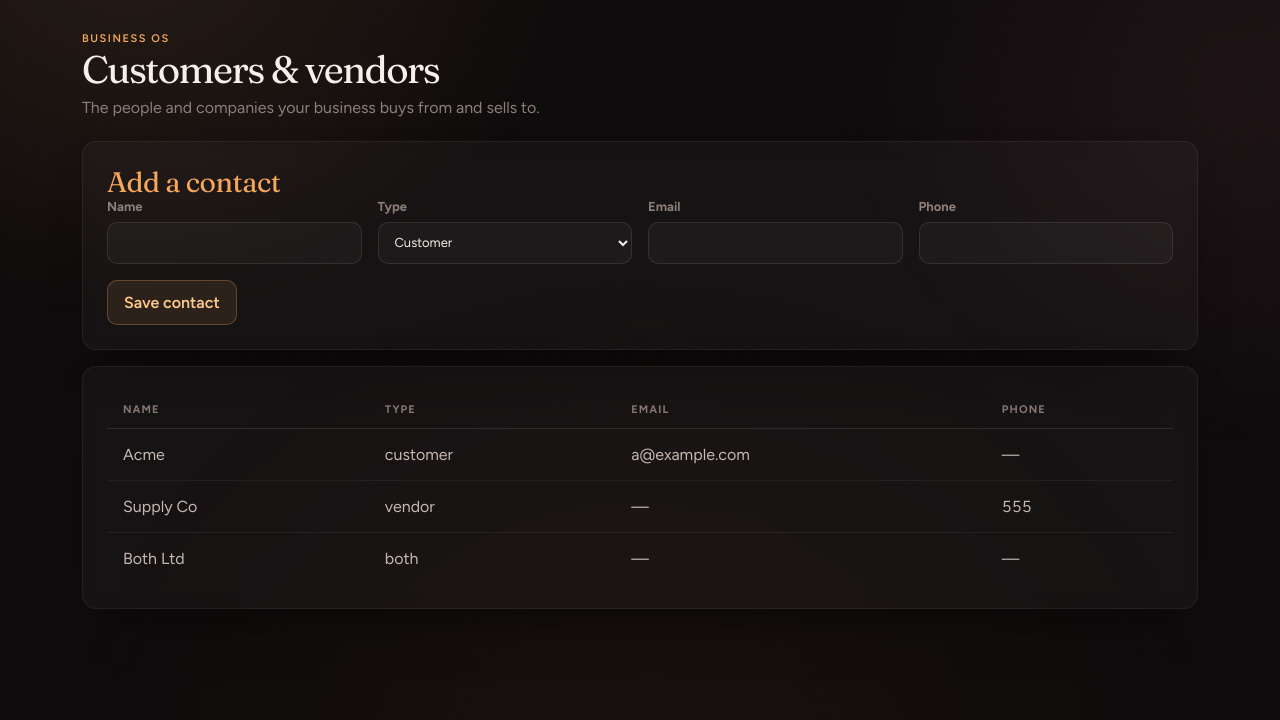
customers and vendors › saves a new contact and says so
The image size is (1280, 720).
Expected: the text "Acme" is shown, [107,428,369,480]
Type "New Co" into the field labelled "Name" at (234, 243), box [107,222,362,264]
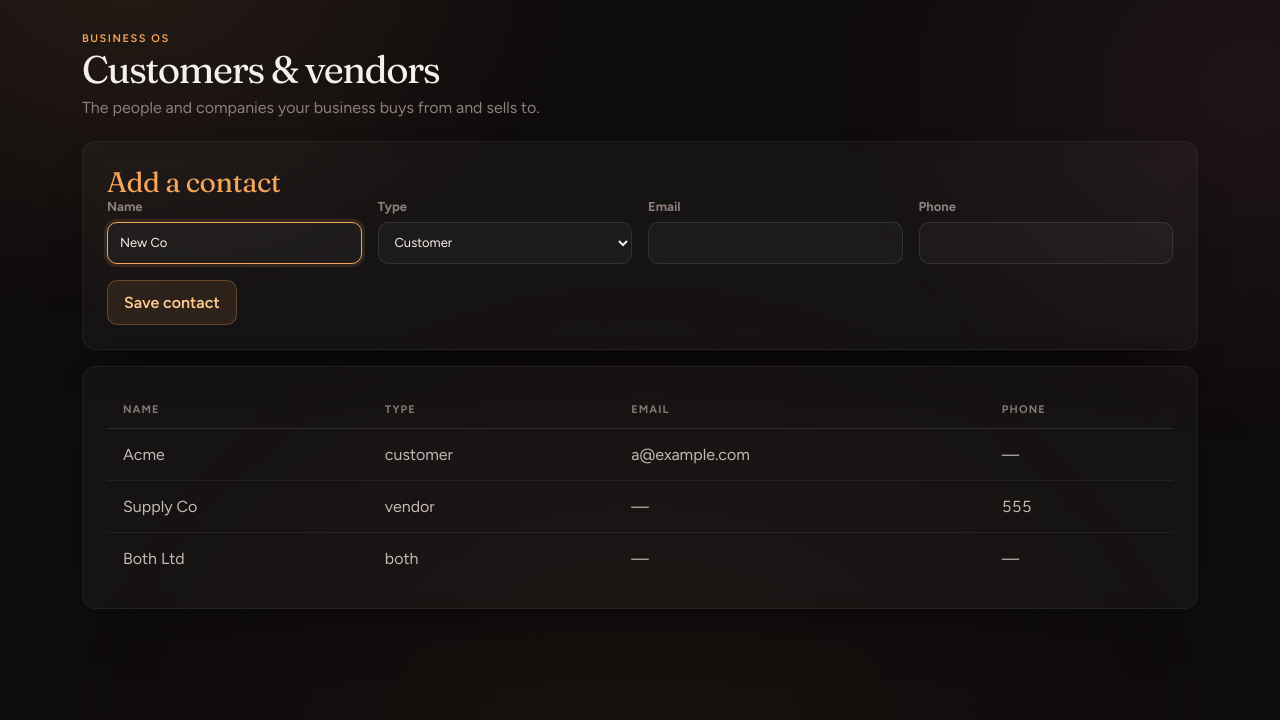
Click the button "Save contact" at (172, 302), box [107,280,237,325]
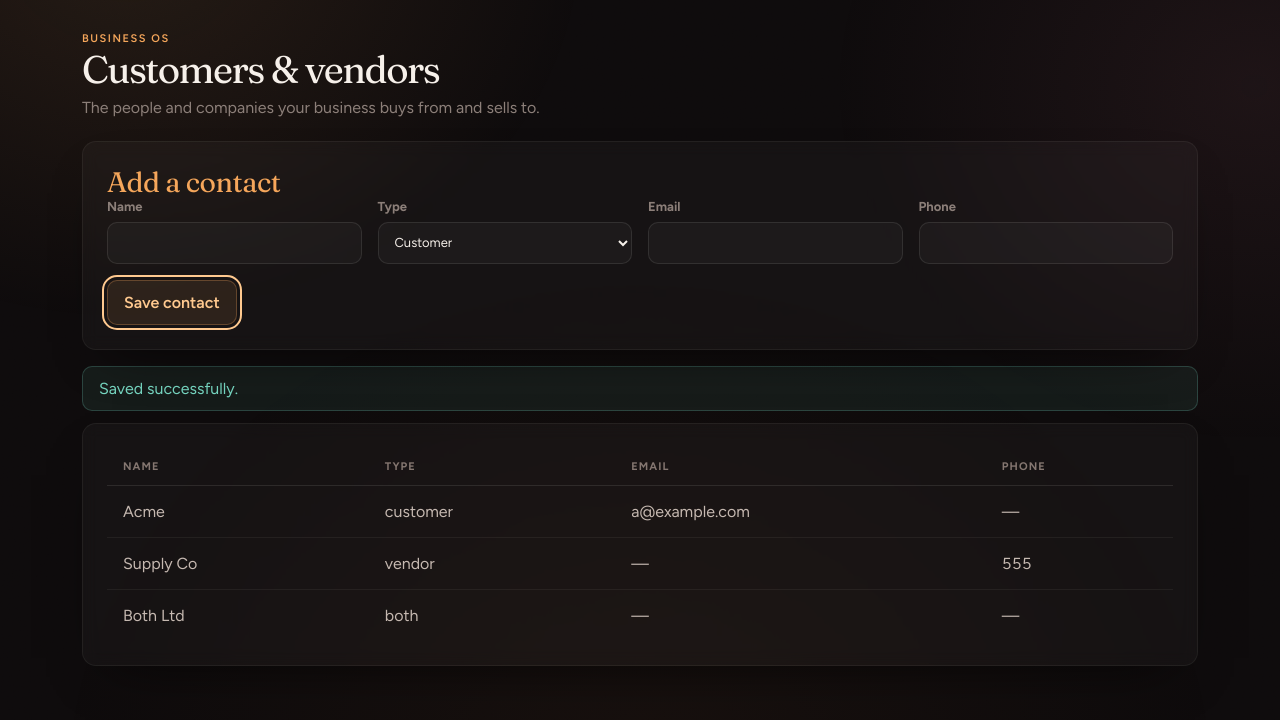
Expected: the text "Saved successfully." is shown, [82,366,1198,411]
